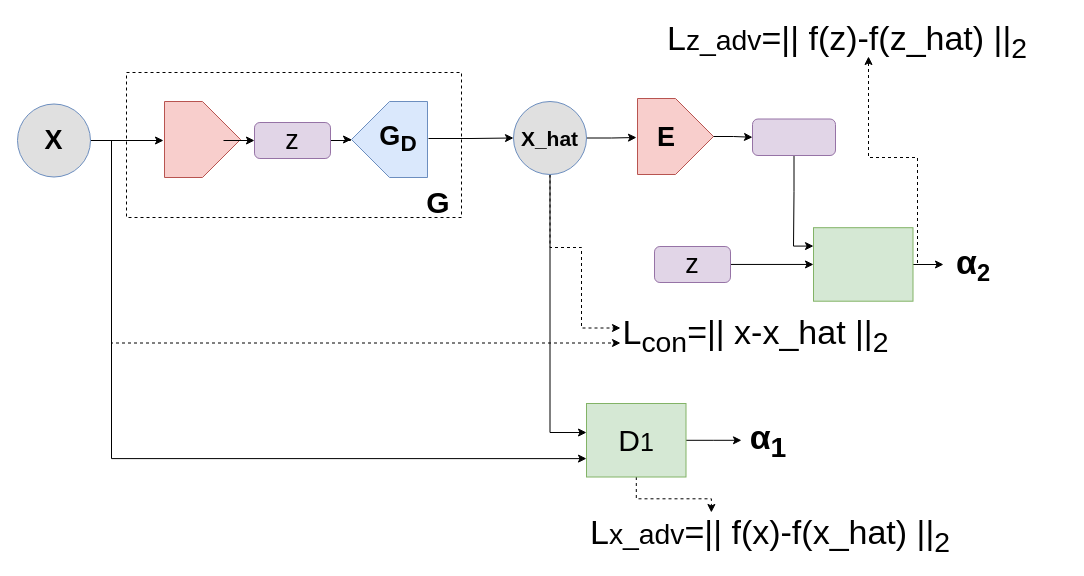
Image size: 1084x576. Some labels were removed from this diagram. Here are the shapes that lost their labels. From the top down, the centre of each, then its label:
(x=202, y=139): G E
(x=794, y=137): z_hat
(x=862, y=264): D 2
